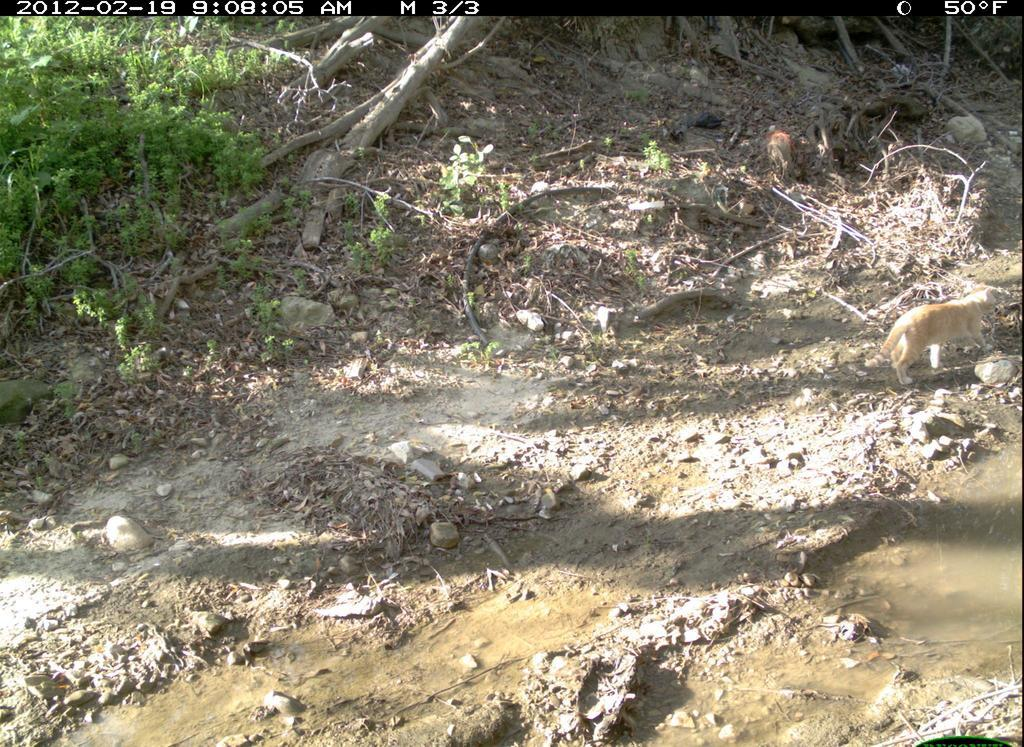cat: (867, 276, 1008, 390)
